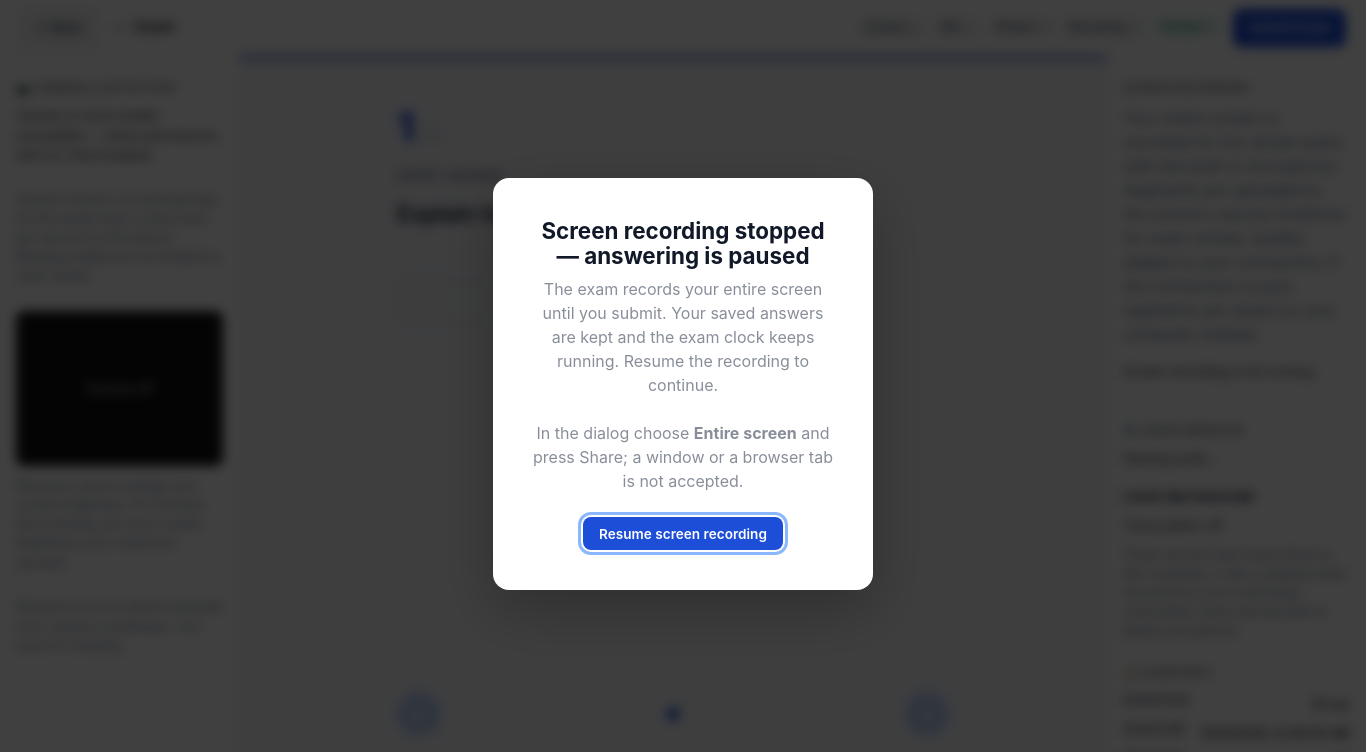
shows a Recording status chip next to the other monitoring chips
Click the button "Resume screen recording" at point(683, 534), box [583, 517, 783, 550]
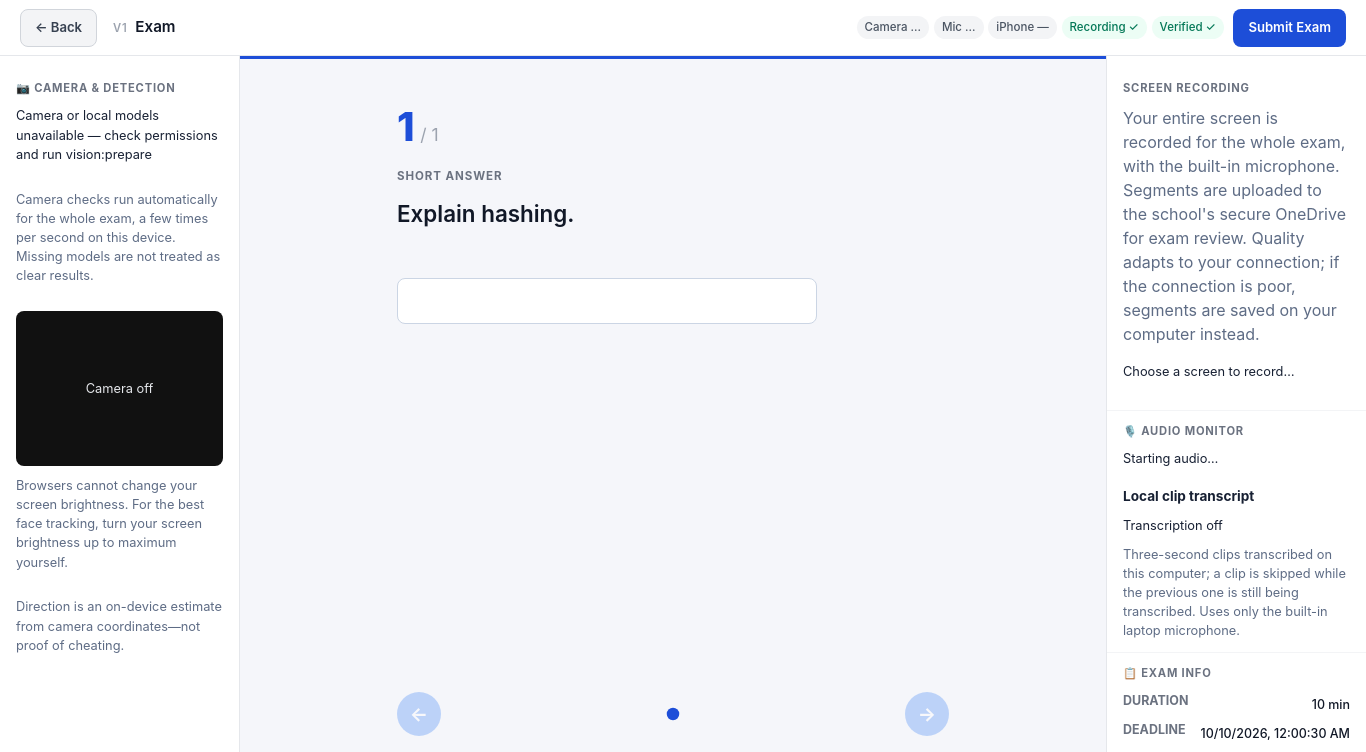
Result: the element named "Monitoring status" shows "Recording ✓" at [857, 16, 1224, 38]
